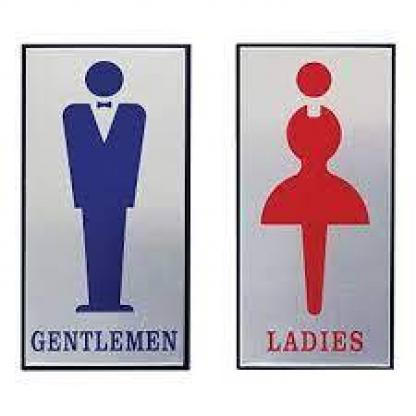toilet: (50, 50, 382, 319)
